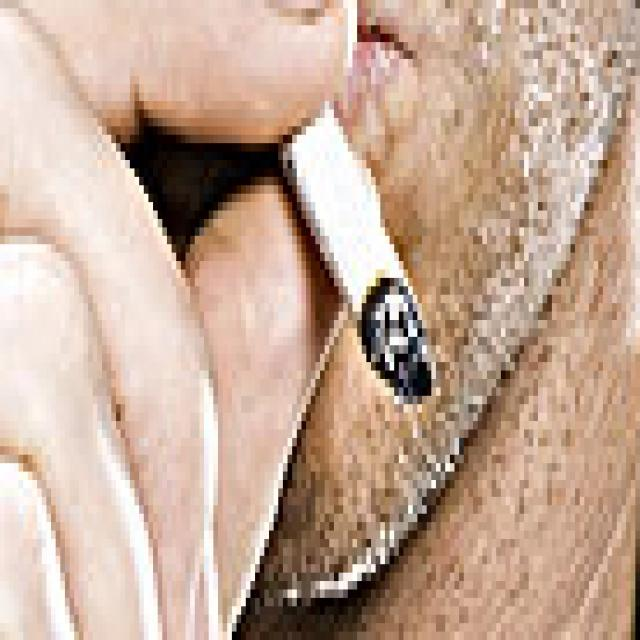smoking: (281, 102, 435, 399)
